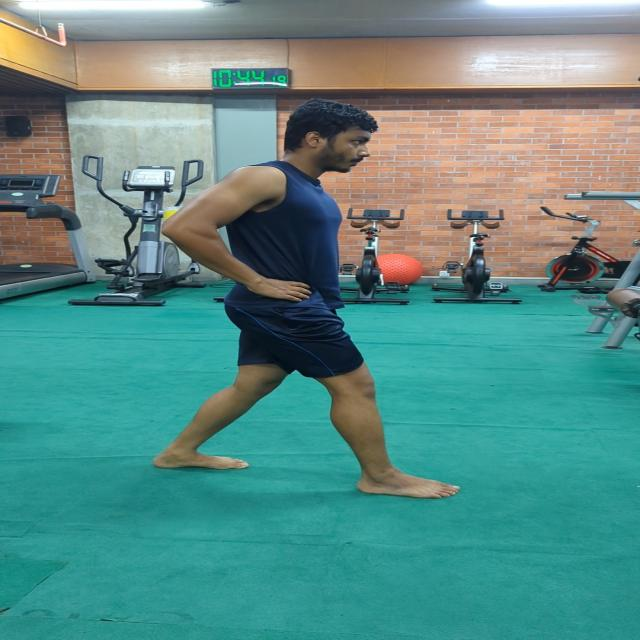Normal_Lunges: (144, 91, 484, 506)
